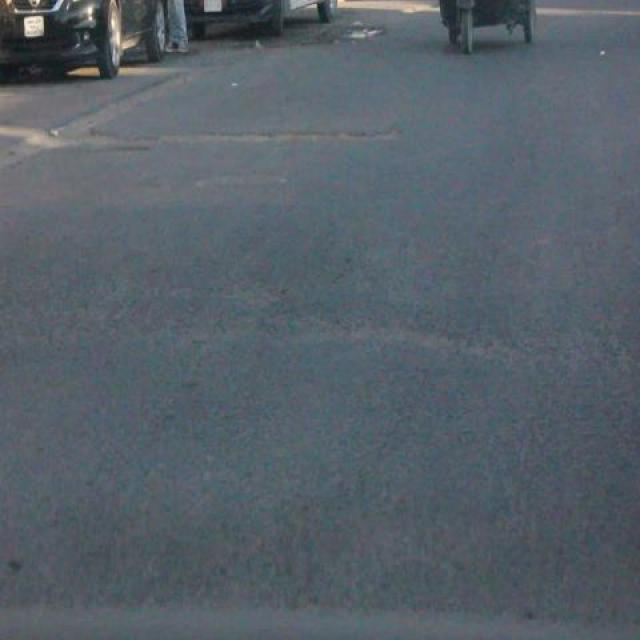Manhole: (180, 166, 300, 196)
Pothole: (254, 300, 487, 372), (70, 119, 427, 156), (320, 8, 388, 48)
Unmarked Bump: (6, 587, 637, 640)
